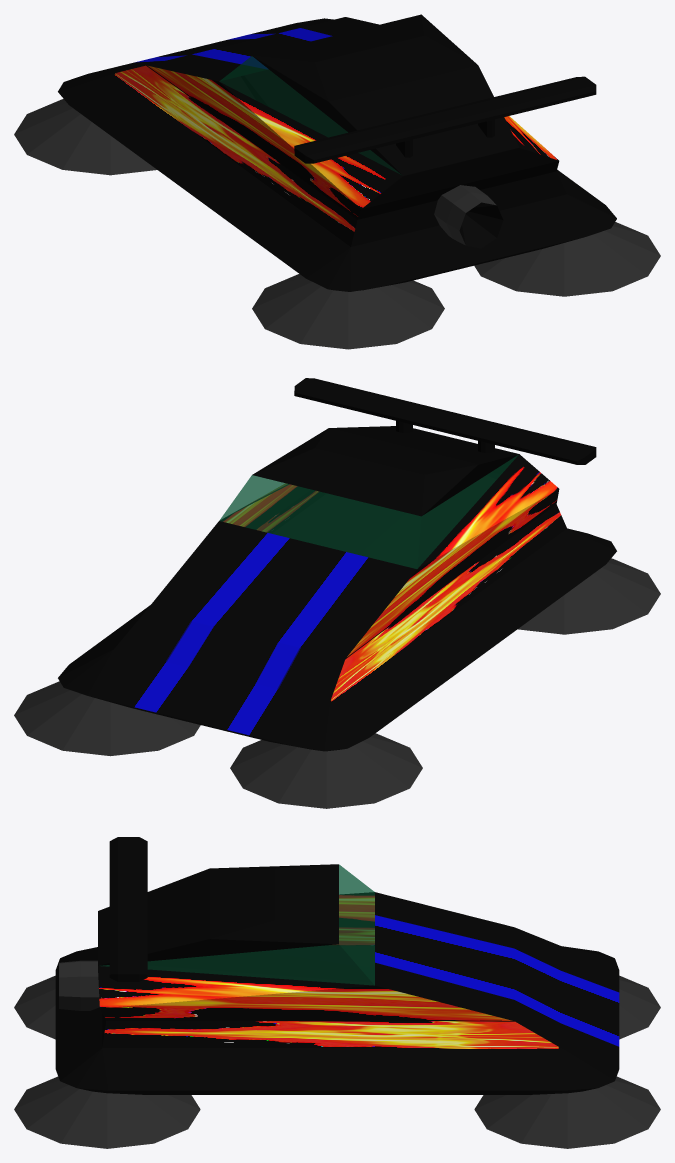
Rendered from craft-elfego.obj.
The picture shows the model from 3 angles, top to bottom: view 1: azimuth 30°, elevation 25°; view 2: azimuth 150°, elevation 25°; view 3: azimuth 270°, elevation 25°; orthographic projection. The views are drawn at different scales.
Visible parts, largest first — view 1: Cube; view 2: Cube; view 3: Cube.
Part boxes in pixels (left/top/right/bottom): Cube: left=14, top=14, right=660, bottom=349; Cube: left=14, top=378, right=660, bottom=808; Cube: left=14, top=837, right=660, bottom=1148.
Bounding box in the file's own units: 7.68 × 3.25 × 11.62.
4 materials, 1 textured.
